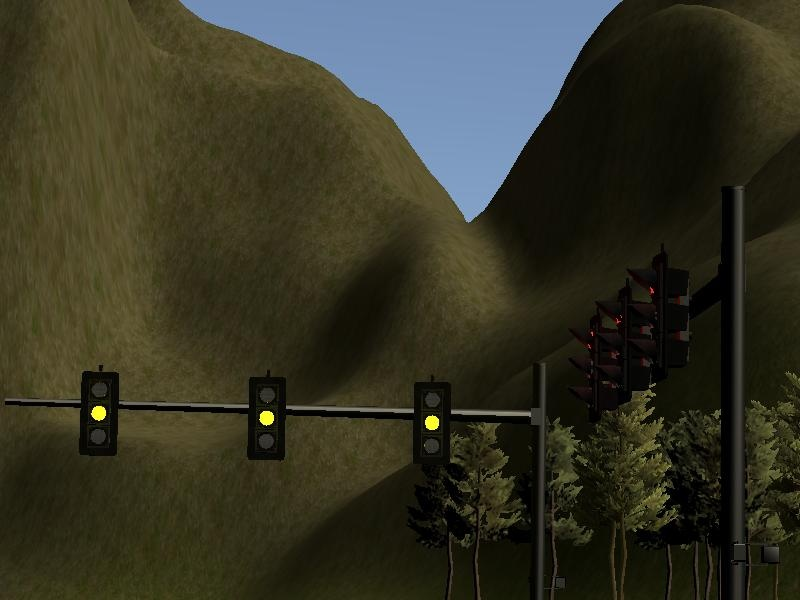yellow: (72, 360, 123, 462), (242, 367, 291, 462), (407, 374, 453, 467)
